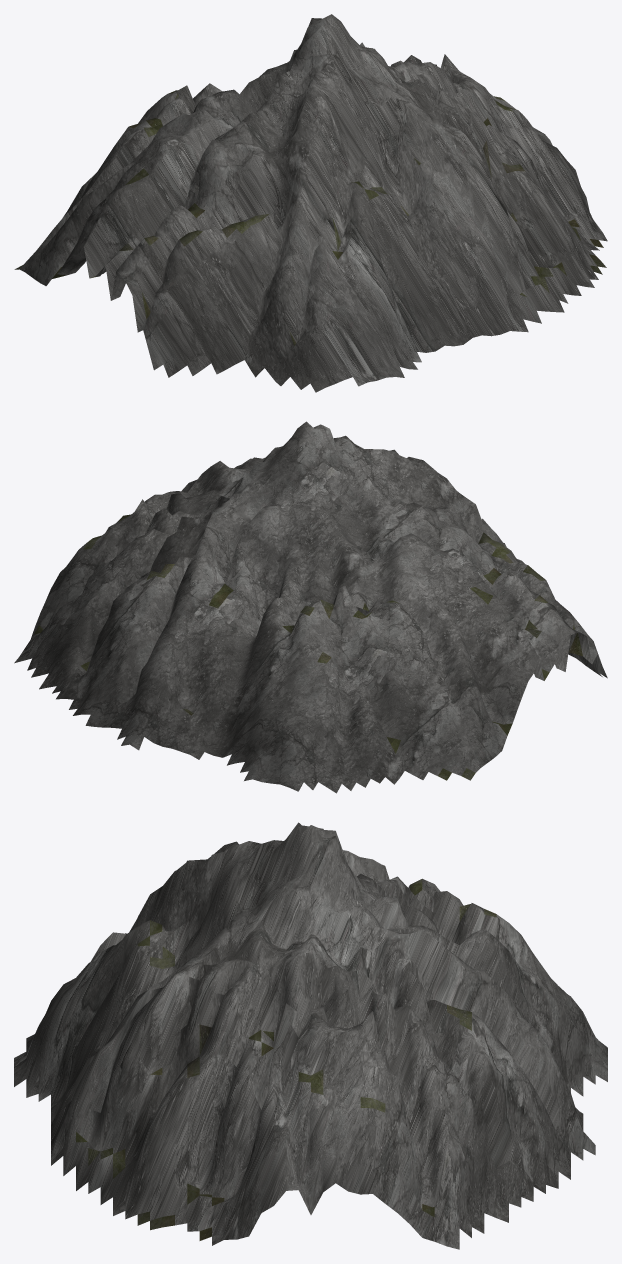
Rendered from border_peak_c_v5_summer.glb.
3 renders of one model, top to bottom at view 1: azimuth 30°, elevation 25°; view 2: azimuth 150°, elevation 25°; view 3: azimuth 270°, elevation 25°, orthographic. The views are drawn at different scales.
Parts seen in each view (by area): view 1: border_peak_c; view 2: border_peak_c; view 3: border_peak_c.
Boxes of the visible parts, x1=… form: border_peak_c: x1=14, y1=14, x2=607, y2=392; border_peak_c: x1=14, y1=421, x2=607, y2=793; border_peak_c: x1=14, y1=822, x2=607, y2=1249.
Bounding box in the file's own units: 1 × 0.5141 × 0.9412.
2 materials, 2 textured.
